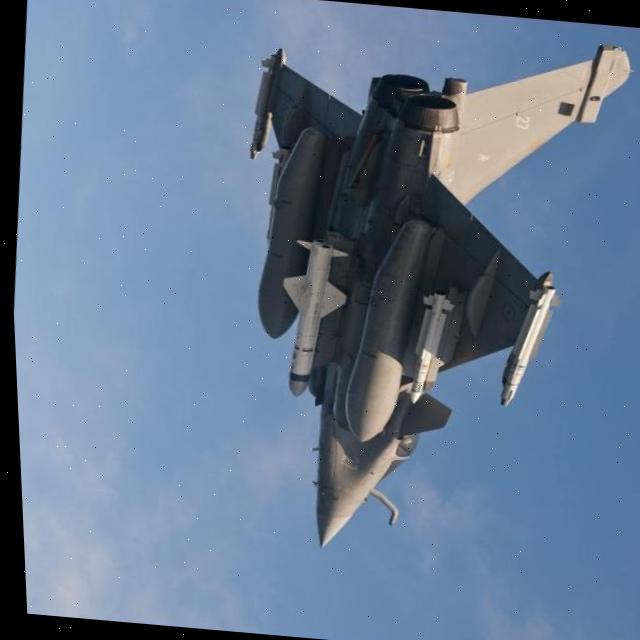missile: (268, 234, 357, 401), (395, 286, 461, 406)
